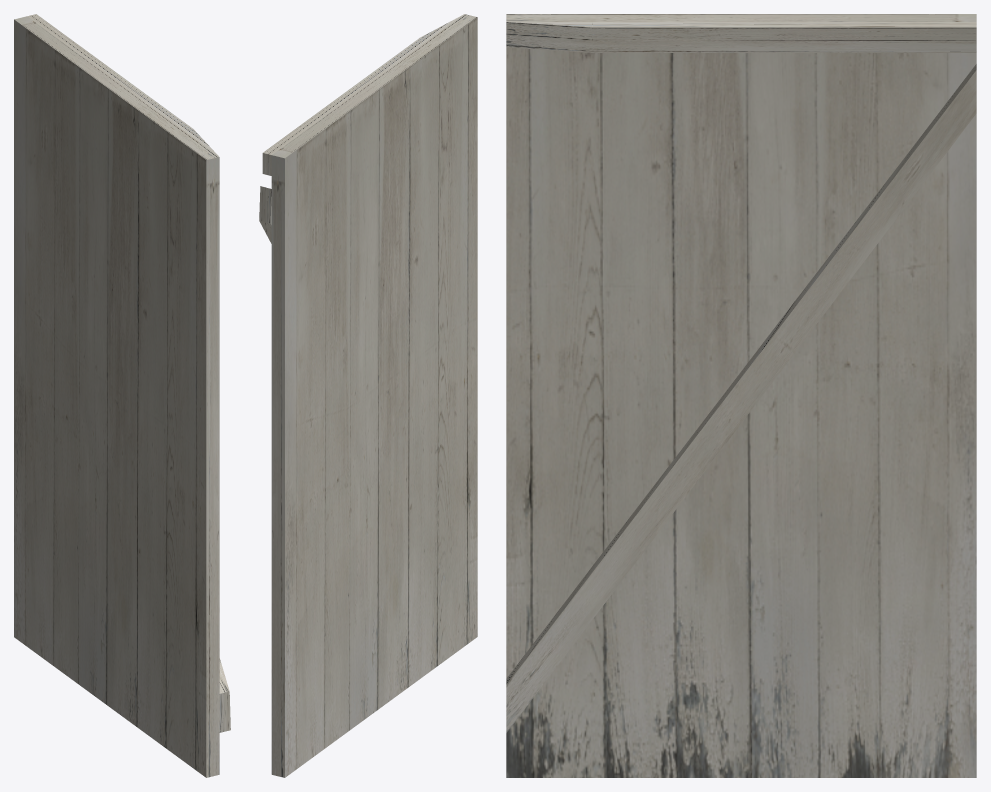
Rendered from PortaEsq.fbx.
The picture shows the model from 3 angles, left to right: view 1: azimuth 30°, elevation 25°; view 2: azimuth 150°, elevation 25°; view 3: azimuth 270°, elevation 25°; orthographic projection. The views are drawn at different scales.
Visible parts, largest first — view 1: PortaEsq; view 2: PortaEsq; view 3: PortaEsq.
Part boxes in pixels (x1,y1,x2,y2): PortaEsq: (14, 14, 230, 777); PortaEsq: (259, 14, 477, 777); PortaEsq: (506, 14, 976, 777).
Bounding box in the file's own units: 1.28 × 29.52 × 16.65.
